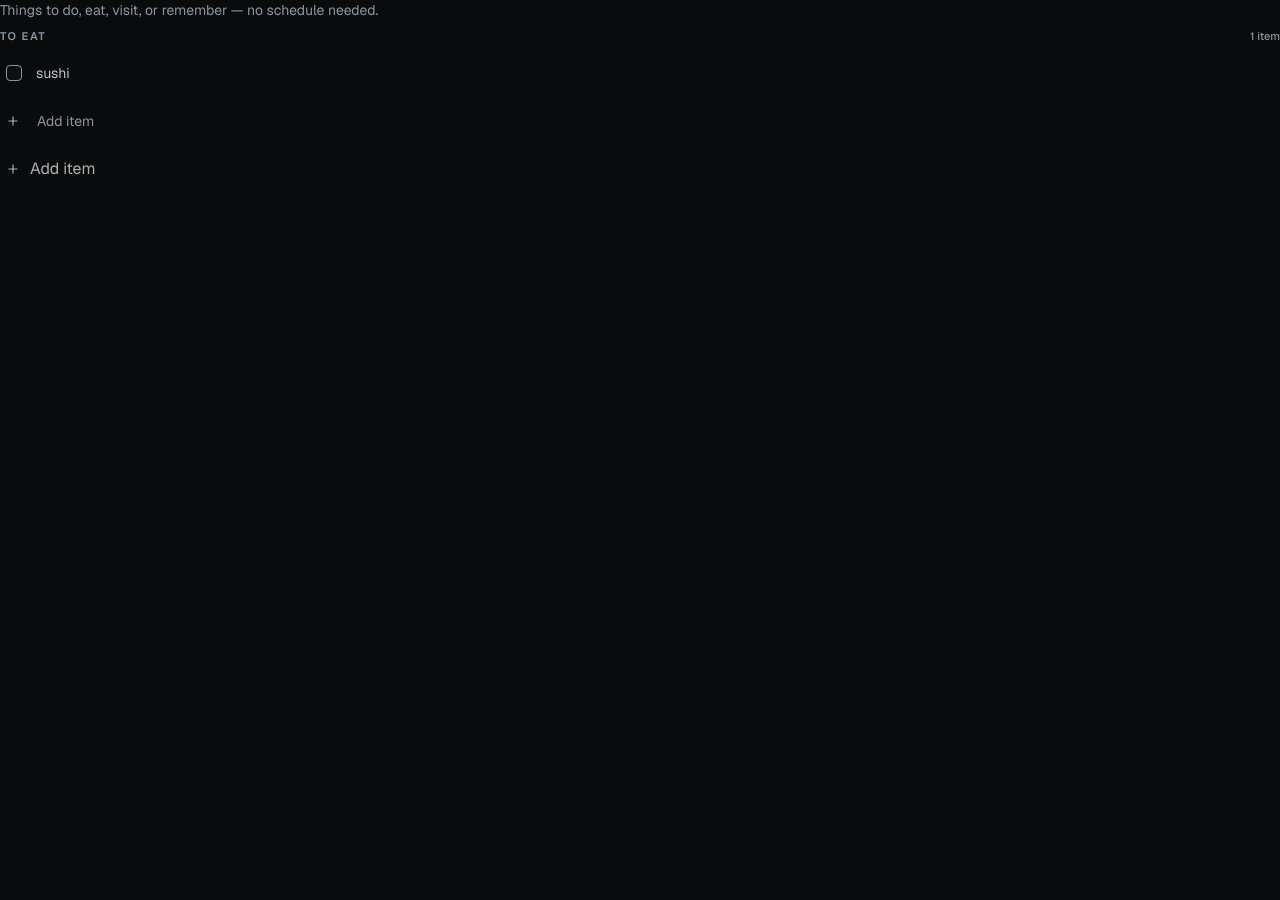
Test: BucketListView › opens the Task Detail drawer when a row's title is clicked
Click the button "sushi": coordinates (53, 72) [32,58,1240,86]
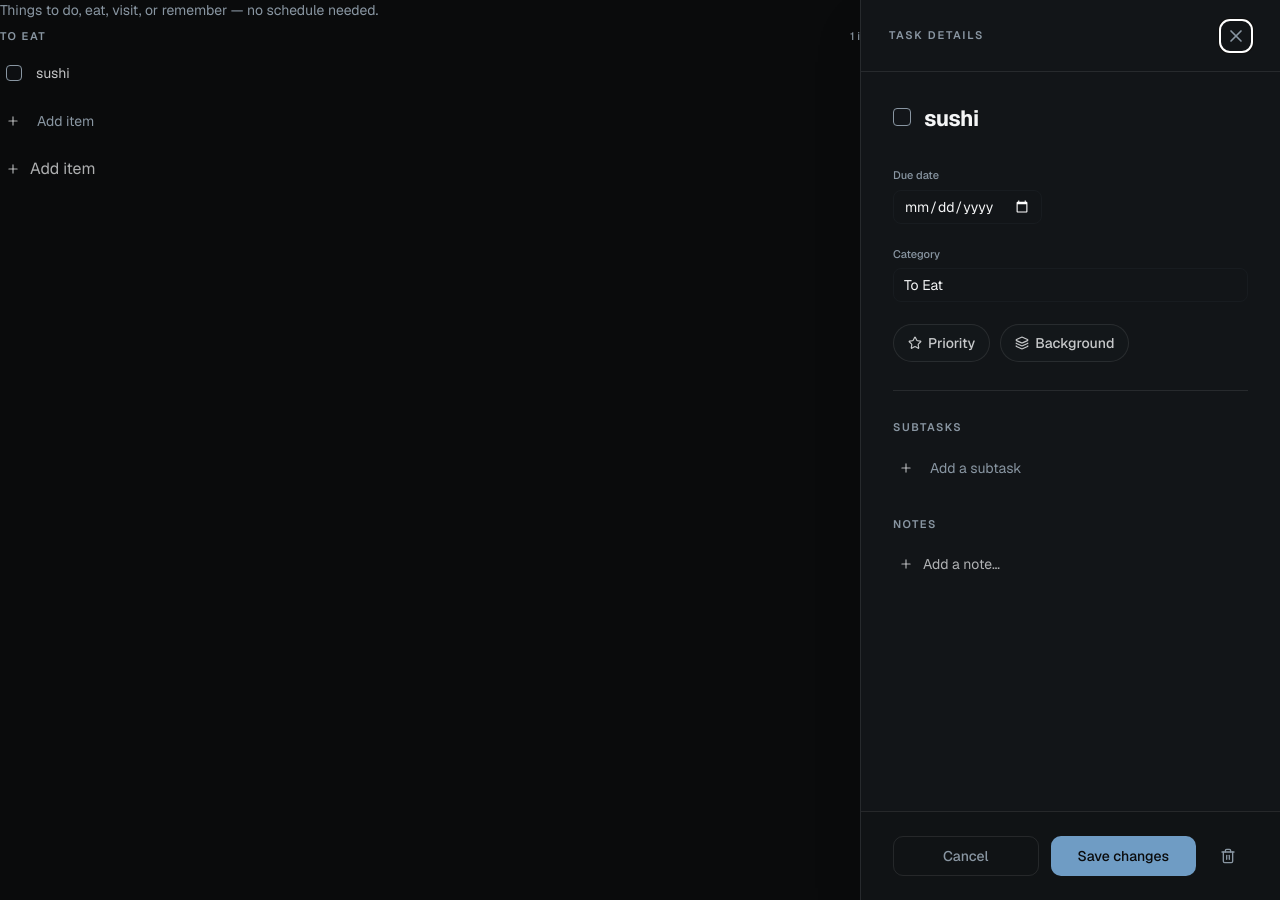
Expected: the dialog with test id "task-detail-drawer" is shown, [860,0,1279,899]
